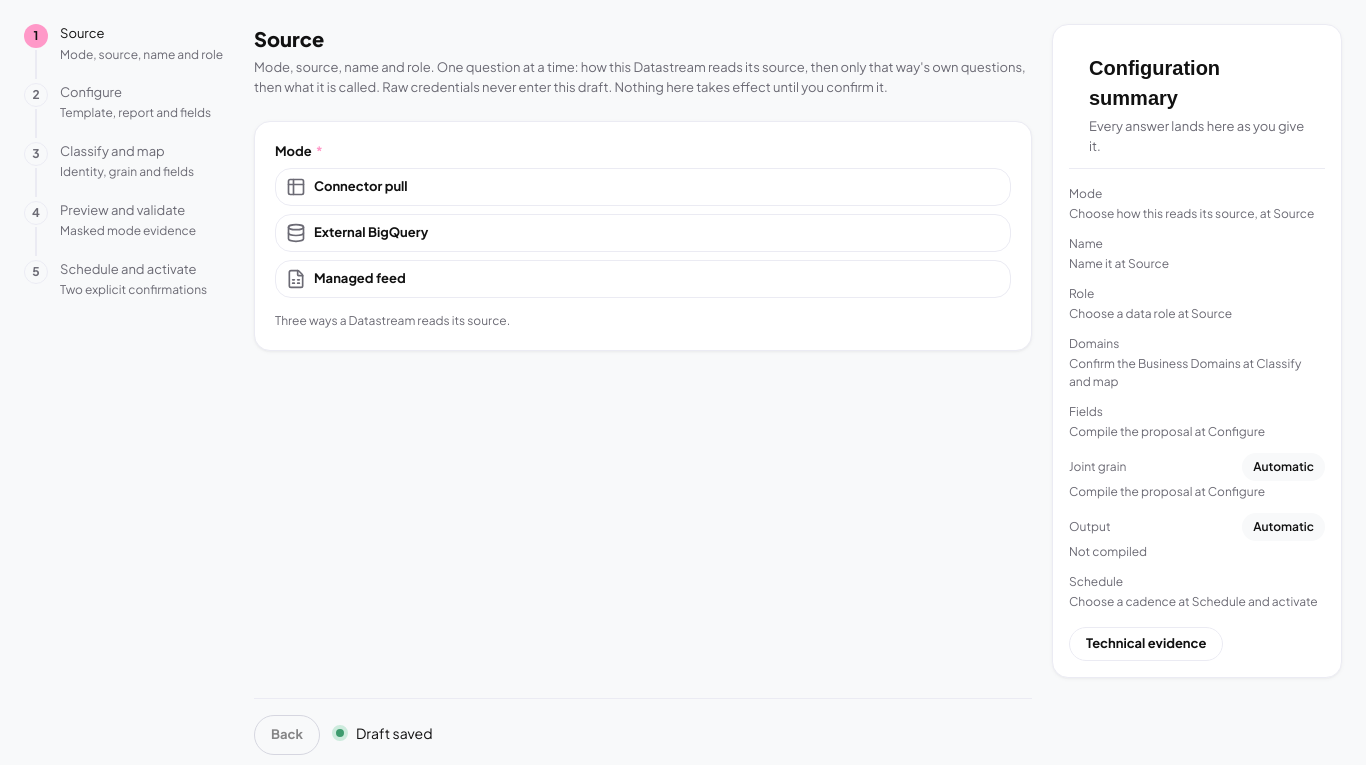
offers the three modes as cards that carry the mockup's sentence, named by their label
Click the radio button labelled "Connector pull": coordinates (361, 186) [275, 168, 1011, 206]
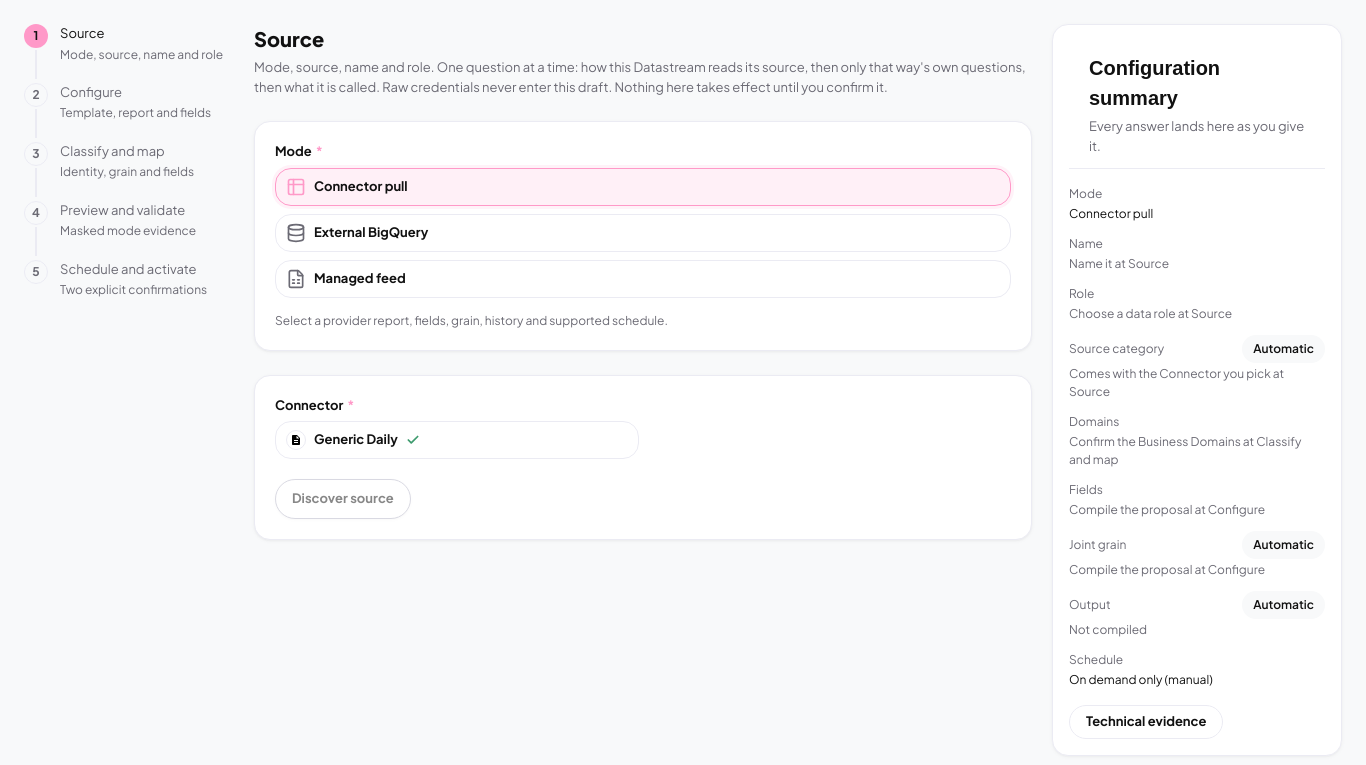
Result: the text "Select a provider report, fields, grain, history and supported schedule." is shown at [275, 312, 668, 328]
Click the radio button labelled "External BigQuery": coordinates (371, 232) [275, 214, 1011, 252]
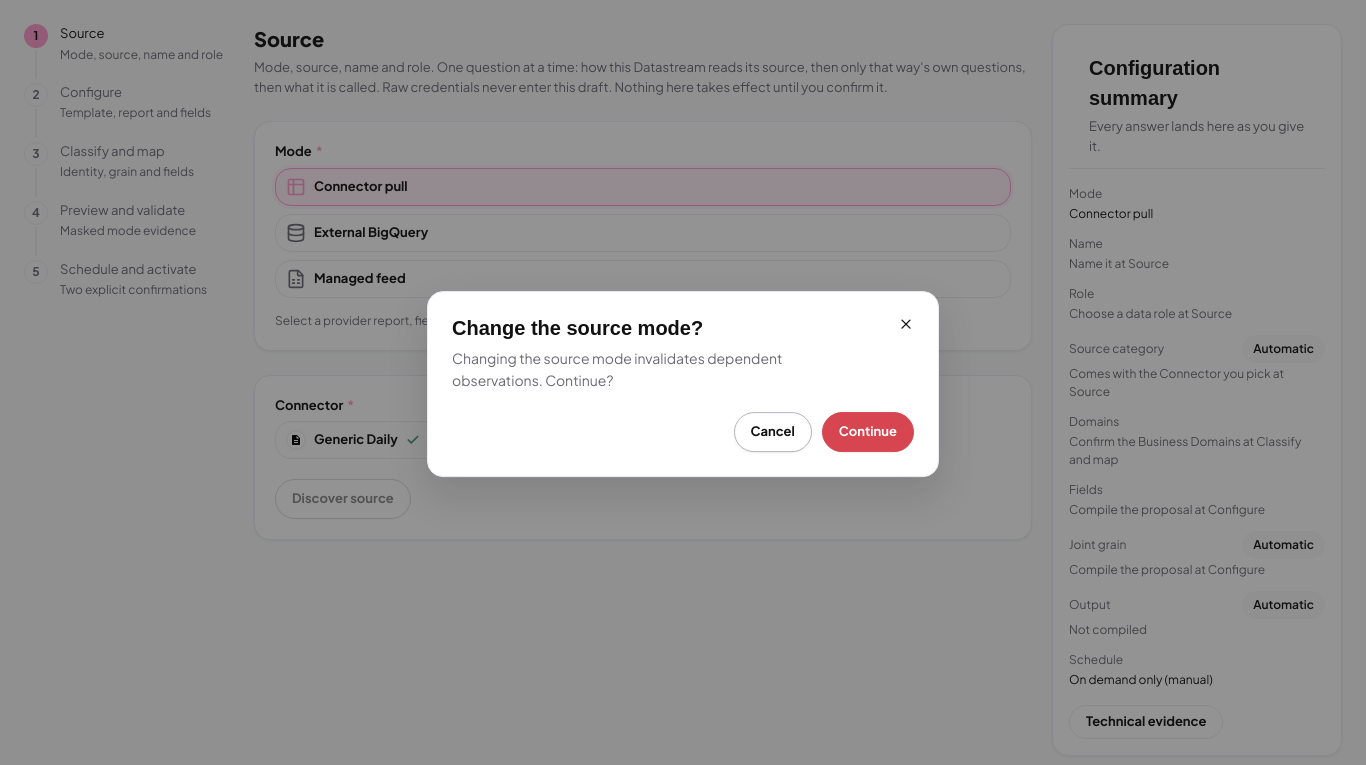
Click the button with test id "datastream-setup-confirm-accept": coordinates (868, 432) [822, 412, 914, 452]
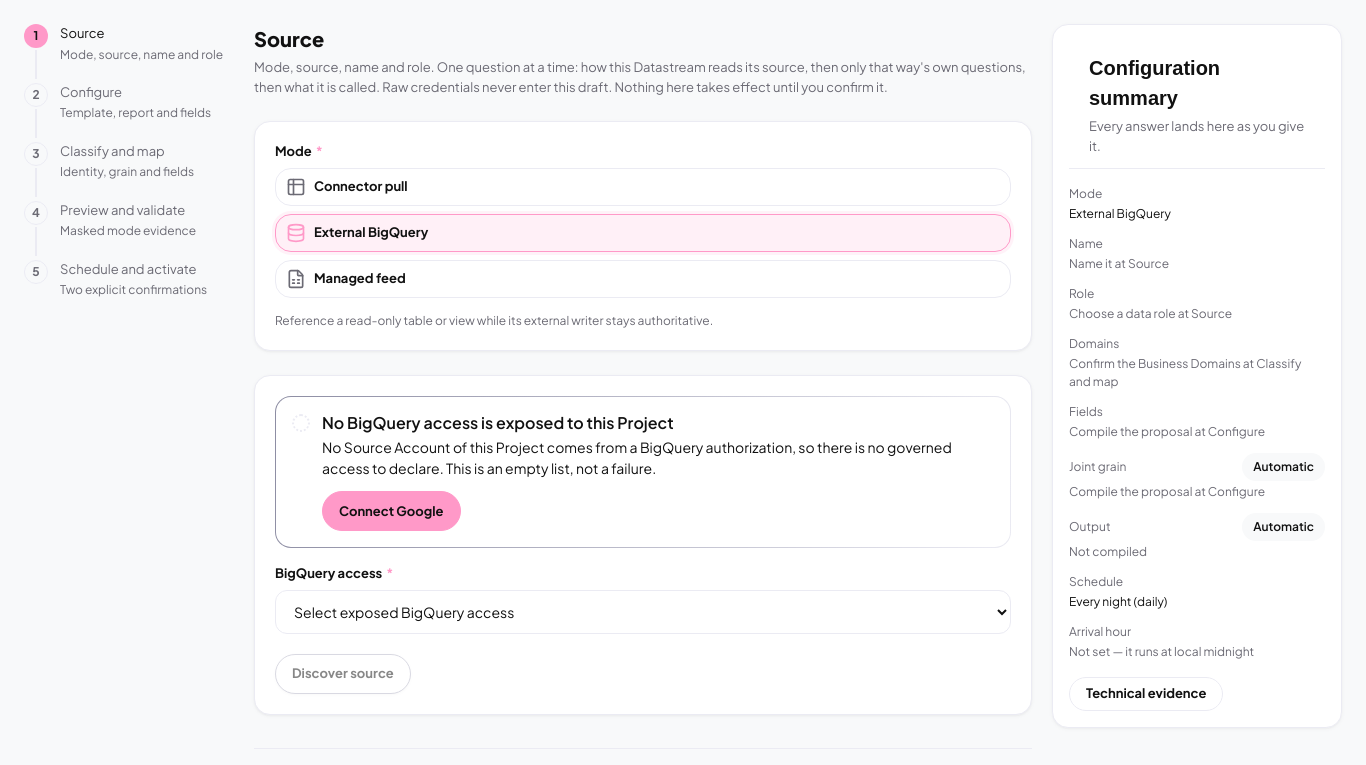
Result: the text "Reference a read-only table or view while its external writer stays authoritative." is shown at [275, 312, 713, 328]
Click the radio button labelled "Managed feed": coordinates (360, 278) [275, 260, 1011, 298]
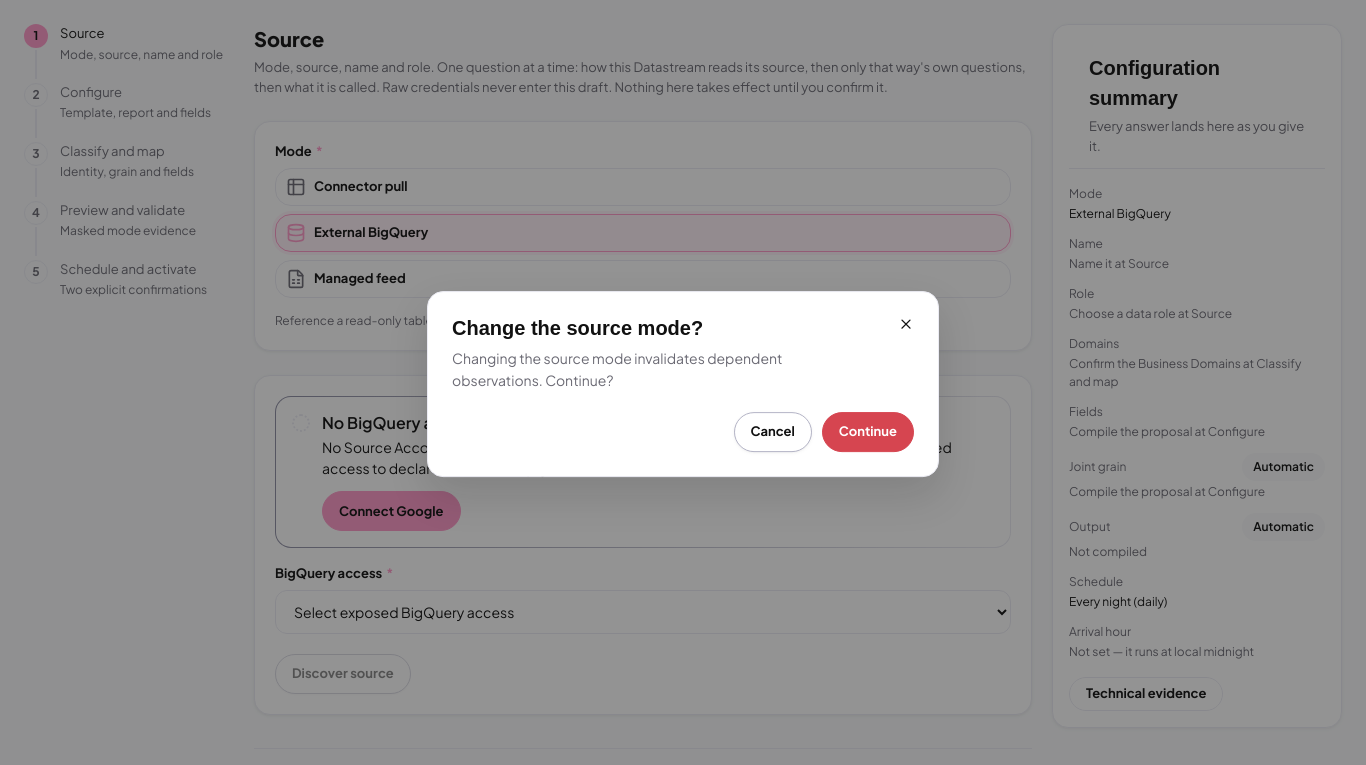
Click the button with test id "datastream-setup-confirm-accept": coordinates (868, 432) [822, 412, 914, 452]
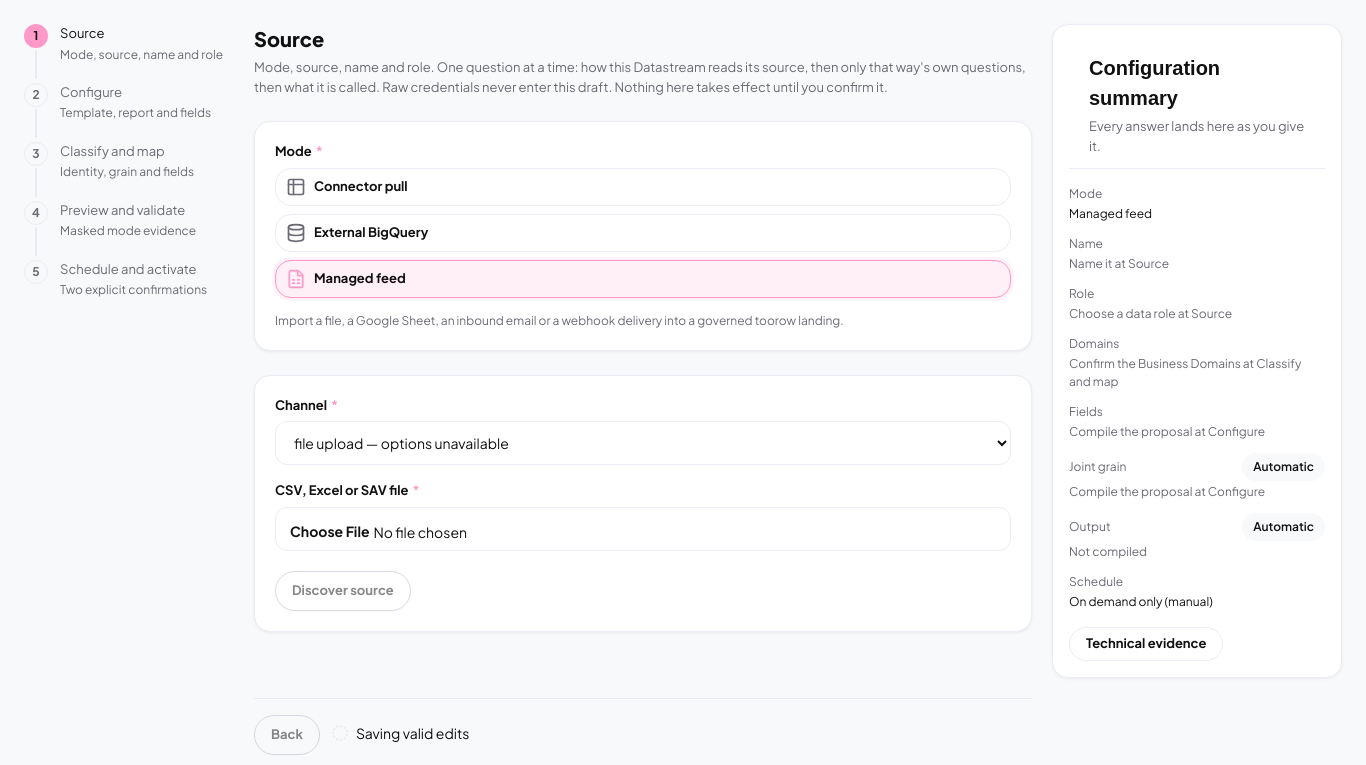
Result: the text "Import a file, a Google Sheet, an inbound email or a webhook delivery into a governed toorow landing." is shown at [275, 312, 844, 328]
